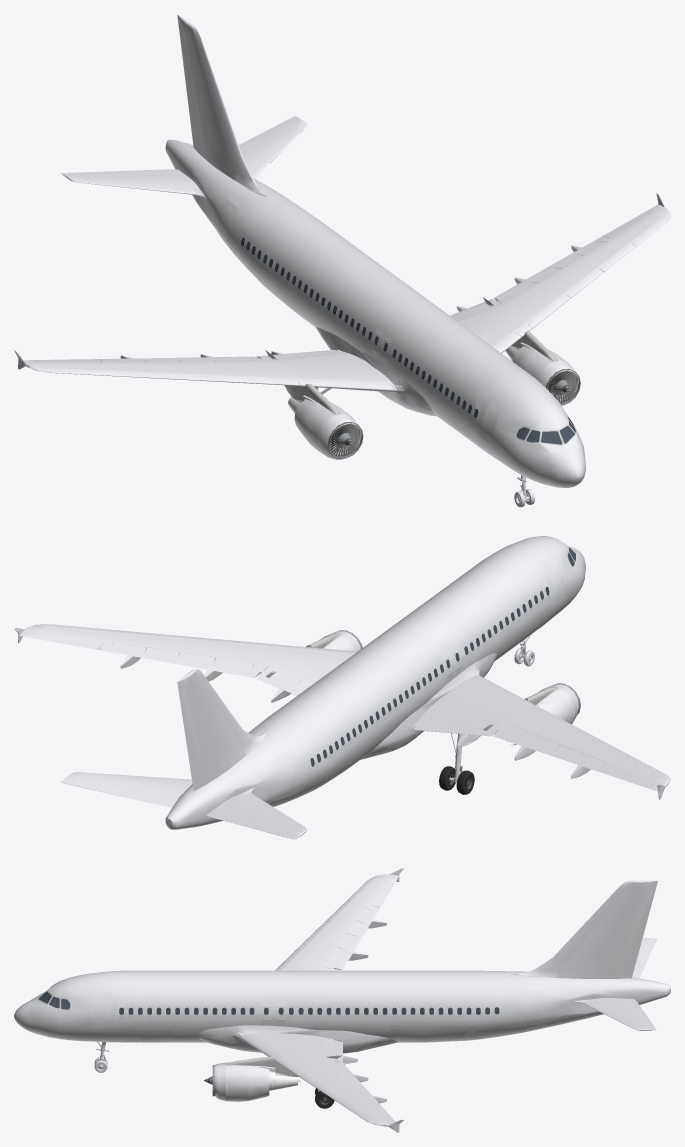
3 views of the same model, one above another, from view 1: azimuth 30°, elevation 25°; view 2: azimuth 150°, elevation 25°; view 3: azimuth 270°, elevation 25° (orthographic). The views are drawn at different scales.
Visible parts, largest first — view 1: body, rud1; view 2: body, rud1, elevL1, gear, flapL2, elevR1, flapR1, flapR2, ailL1; view 3: body, rud1, flapR2.
Boxes of the visible parts, box(x1,y1,x2,y2) form: body: box(14, 19, 670, 504); rud1: box(177, 15, 207, 157); body: box(14, 536, 670, 836); rud1: box(177, 677, 214, 791); elevL1: box(60, 779, 178, 807); gear: box(417, 648, 534, 794); flapL2: box(100, 648, 261, 677); elevR1: box(206, 806, 298, 839); flapR1: box(413, 722, 498, 736); flapR2: box(493, 730, 602, 772); ailL1: box(32, 633, 103, 649); body: box(14, 868, 670, 1132); rud1: box(604, 880, 657, 978); flapR2: box(334, 908, 379, 969).
Bounding box in the file's own units: 34.04 × 12.36 × 37.57.
36 materials, 13 textured.
